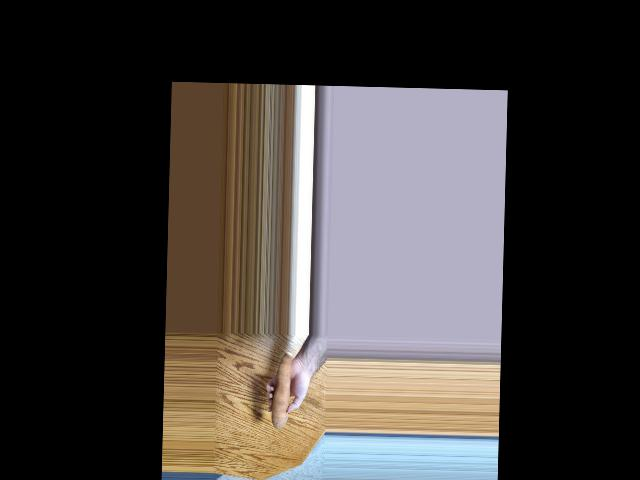sweet_potato: (265, 354, 291, 432)
